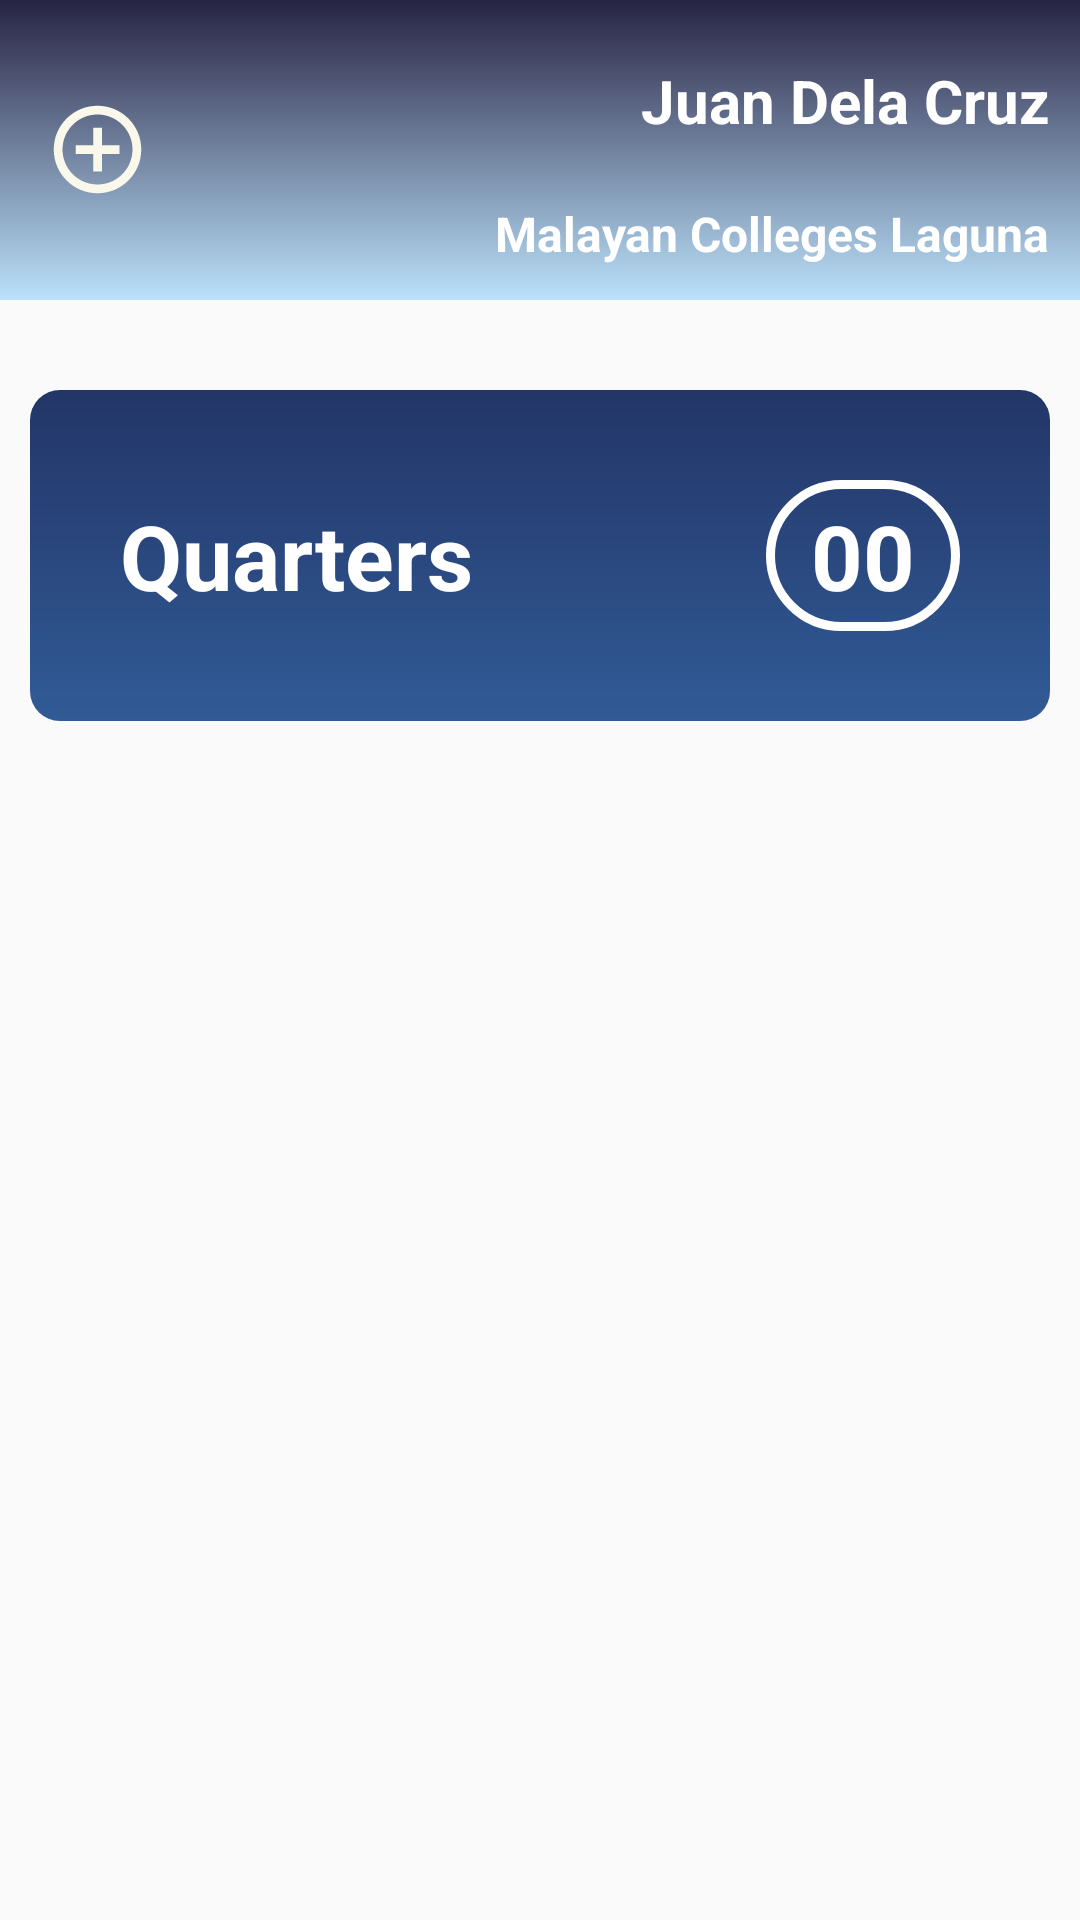

Screen size 1080x1920. Icon name, then its center in pixels as [x,y]:
add circle: [97,149]
